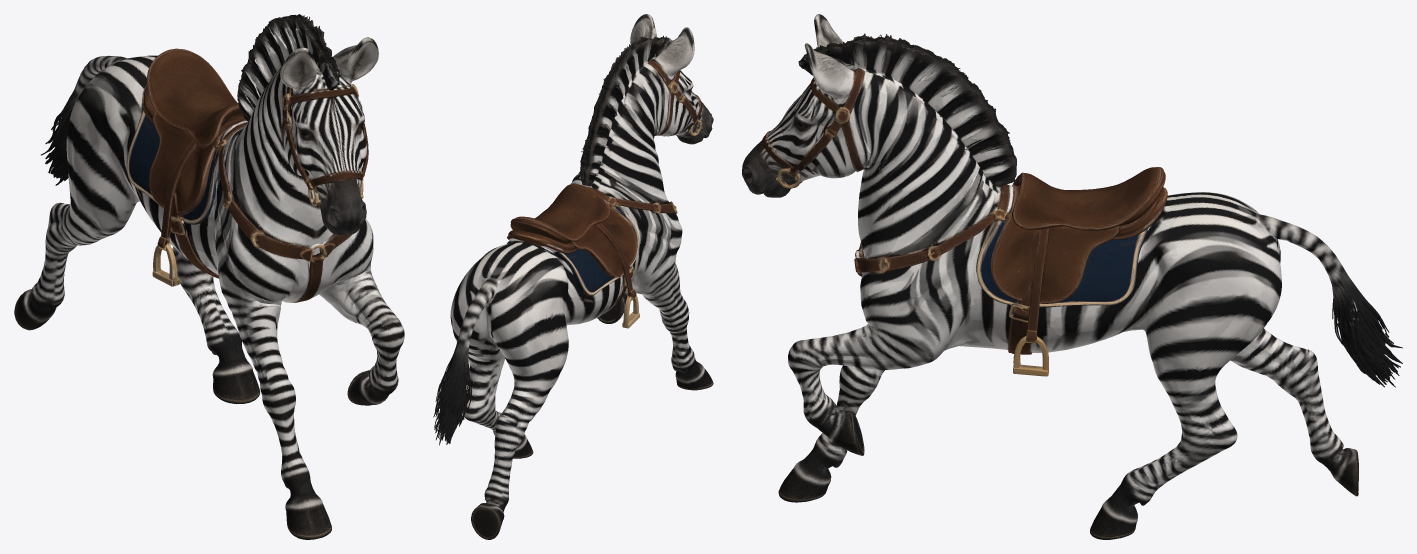
Rendered from zebra.glb.
3 views of the same model, side by side, from view 1: azimuth 30°, elevation 25°; view 2: azimuth 150°, elevation 25°; view 3: azimuth 270°, elevation 25° (orthographic). The views are drawn at different scales.
Size of the model in its own units: 0.5067 by 1.53 by 1.9.
Materials: 1 (1 with a texture image).
